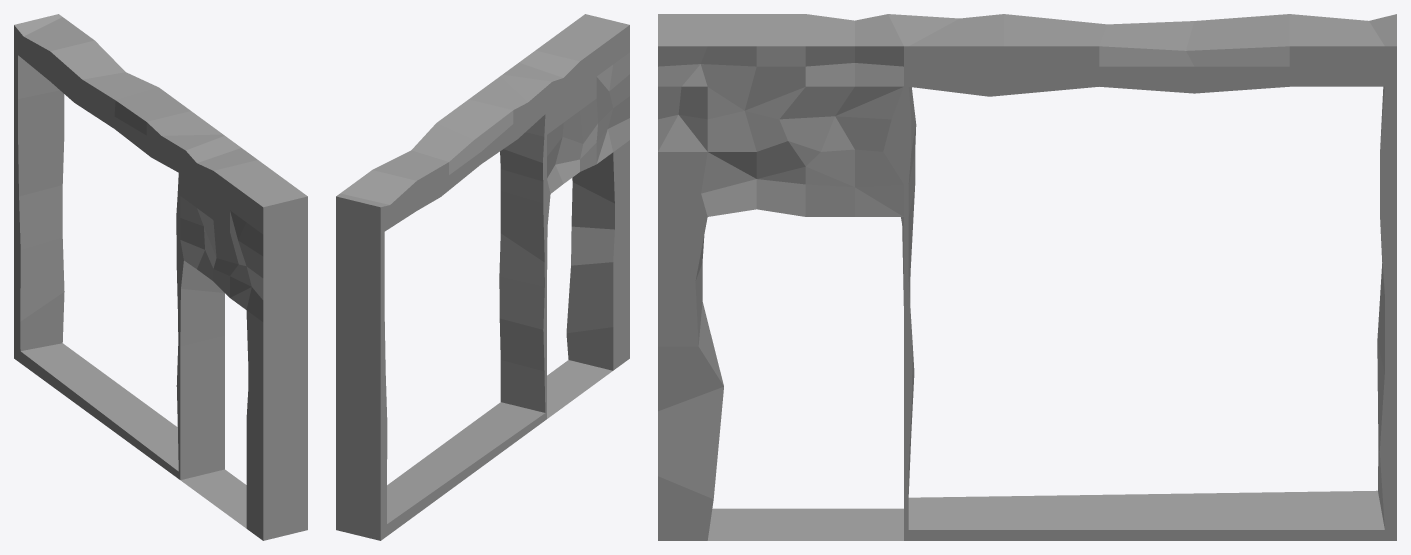
File: Fixed Mesh 18.fbx
The picture shows the model from 3 angles, left to right: view 1: azimuth 30°, elevation 25°; view 2: azimuth 150°, elevation 25°; view 3: azimuth 270°, elevation 25°; orthographic projection. The views are drawn at different scales.
Parts seen in each view (by area): view 1: Cube.097; view 2: Cube.097; view 3: Cube.097.
Part boxes in pixels (bbox=[...]): Cube.097: bbox=[14, 14, 307, 540]; Cube.097: bbox=[336, 14, 629, 540]; Cube.097: bbox=[658, 14, 1396, 540].
Bounding box in the file's own units: 63.04 × 428 × 580.
